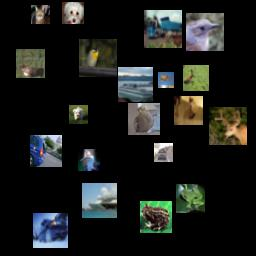automobile: (33, 213, 68, 248), (30, 135, 62, 167), (154, 143, 173, 162)
bird: (79, 39, 117, 77), (186, 13, 224, 51), (128, 103, 160, 135), (78, 149, 100, 171)
cat: (174, 96, 203, 125), (31, 5, 50, 24)
deer: (209, 107, 247, 145), (16, 49, 45, 78), (183, 65, 209, 91)
dog: (62, 2, 84, 24), (69, 105, 88, 124)
frog: (140, 201, 172, 233), (176, 184, 205, 213), (158, 72, 174, 88)
ship: (82, 183, 117, 218), (118, 67, 153, 102)
truck: (144, 10, 182, 48)
